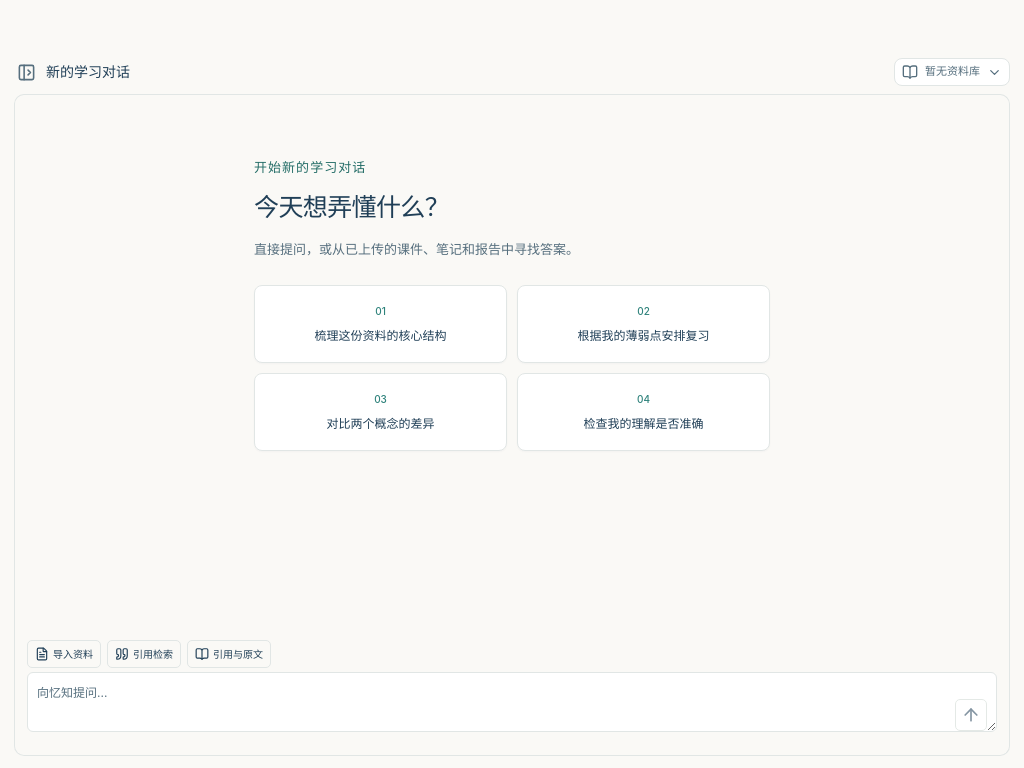
memory failure preserves the item and duplicate clicks send only one request
Type "测试问题" into the text box labelled "向忆知提问..." at (512, 702), box [27,672,997,732]
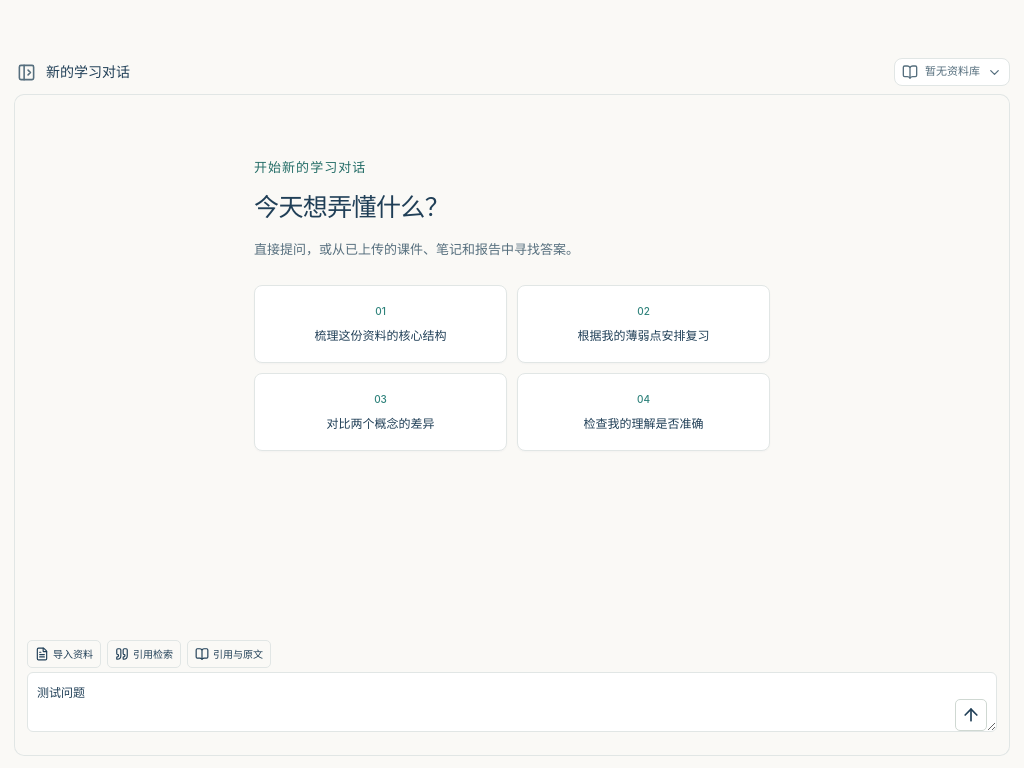
Click the button named "发送" at (971, 715), box [955,699,987,731]
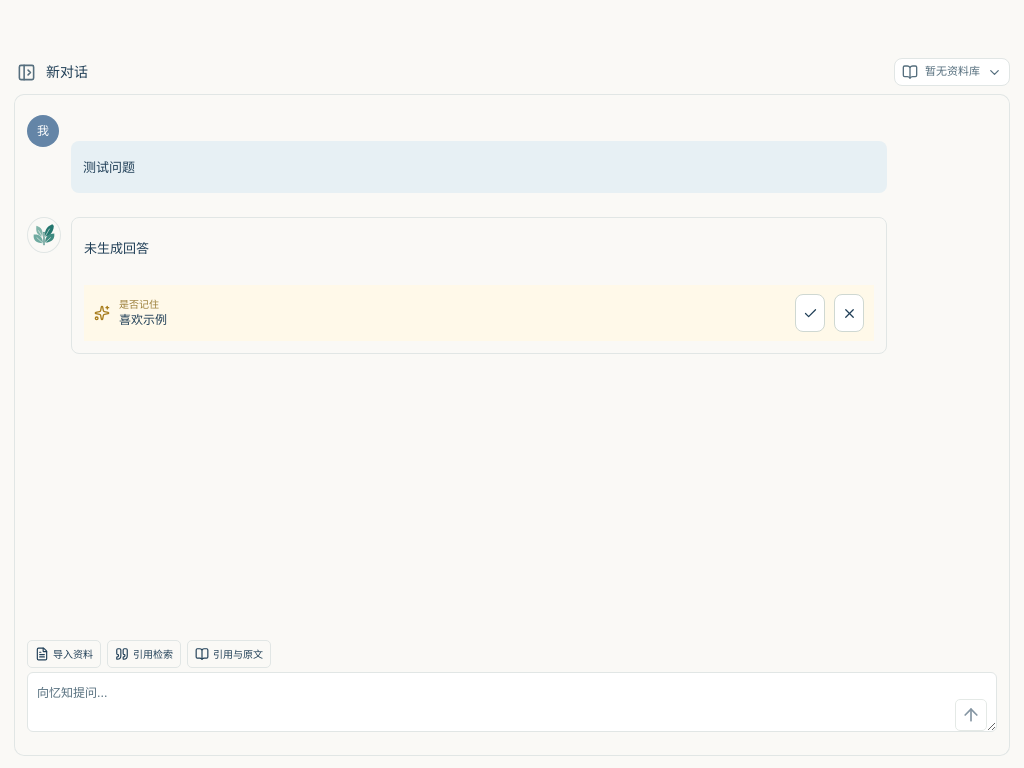
Click the button named "确认记忆" at (810, 313), box [795,294,825,332]
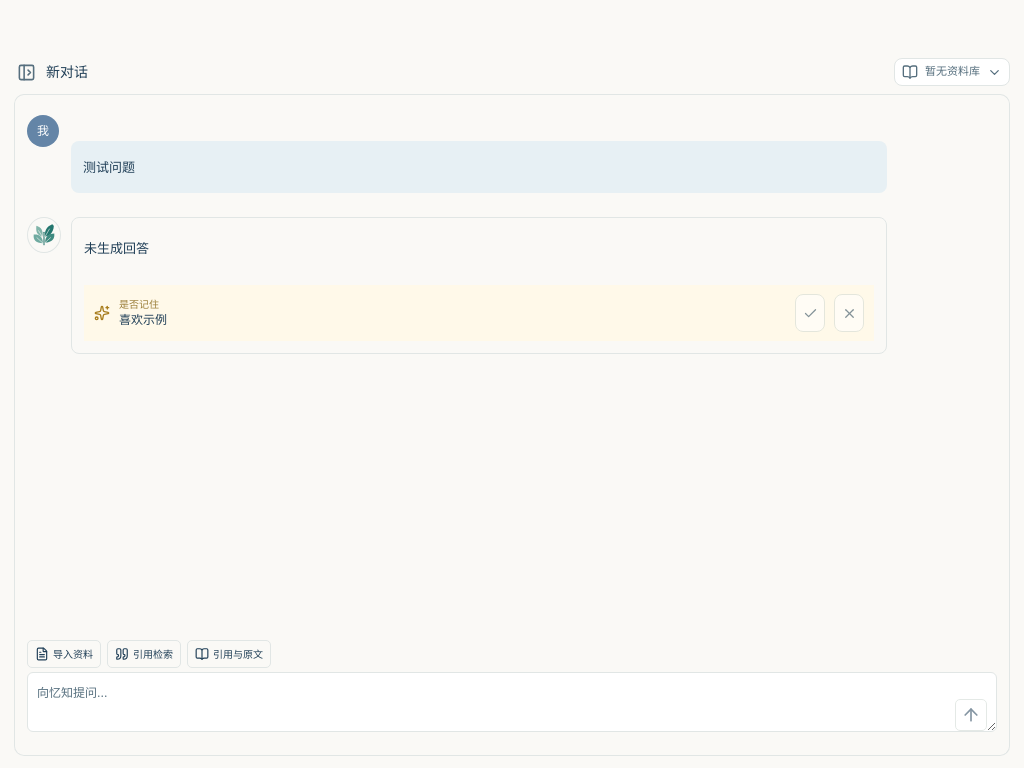
Click the button named "确认记忆" at (810, 313), box [795,294,825,332]
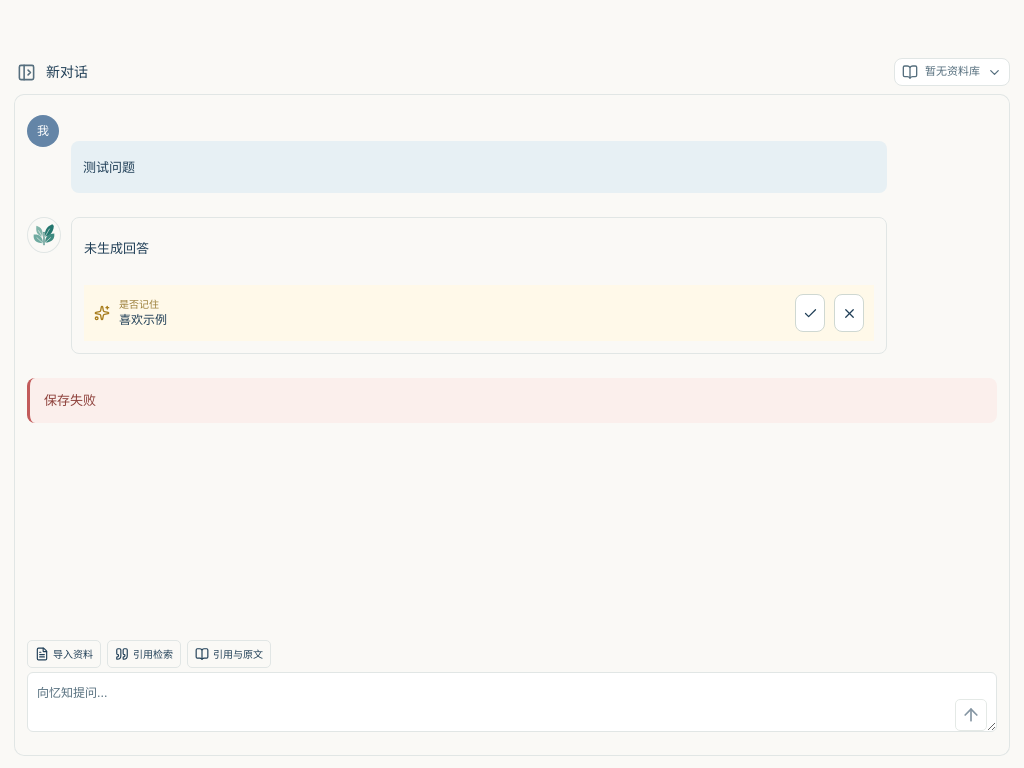
Expected: the text "喜欢示例" is shown, [119,312,167,327]
Expected: the message reads "保存失败", [44,392,96,408]
